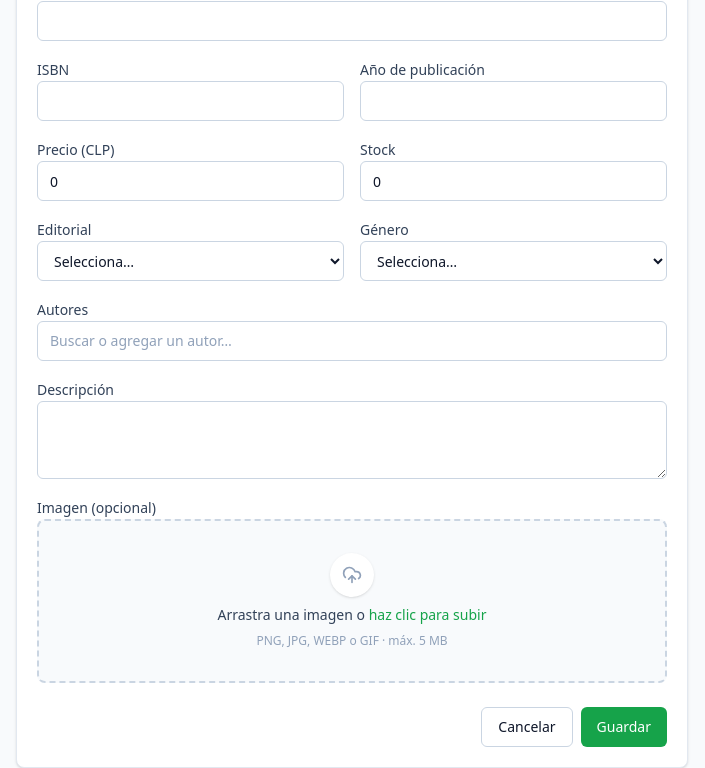
it: BookFormPage › valida los campos obligatorios con mensajes claros
(page scrolled)
What coordinates should you click on to do the following:
click the button "Guardar"
I would click on:
 (624, 727)
Its box is [580,707,667,747].
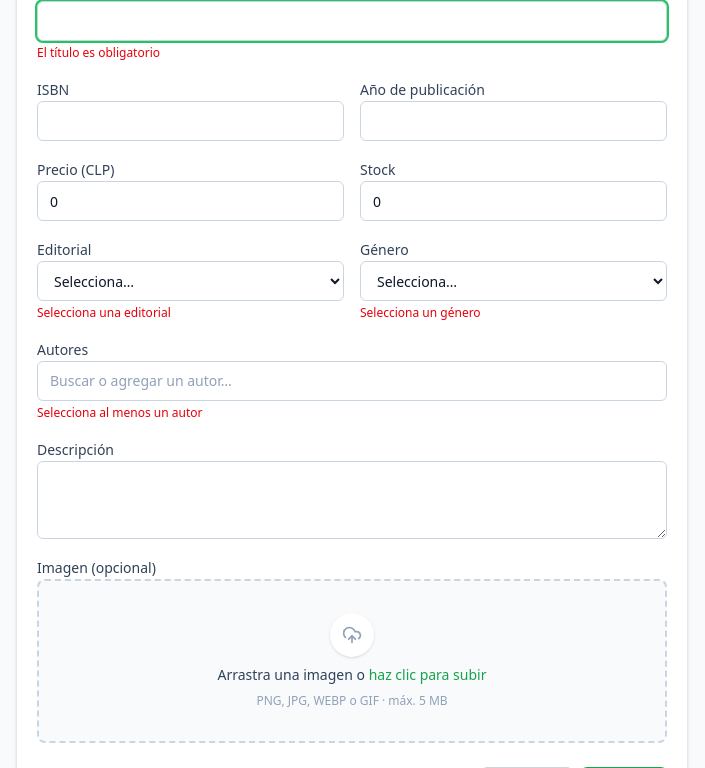
Now the text "El título es obligatorio" is shown, box [37,44,160,61]
Now the text "Selecciona al menos un autor" is shown, box [37,404,202,421]
